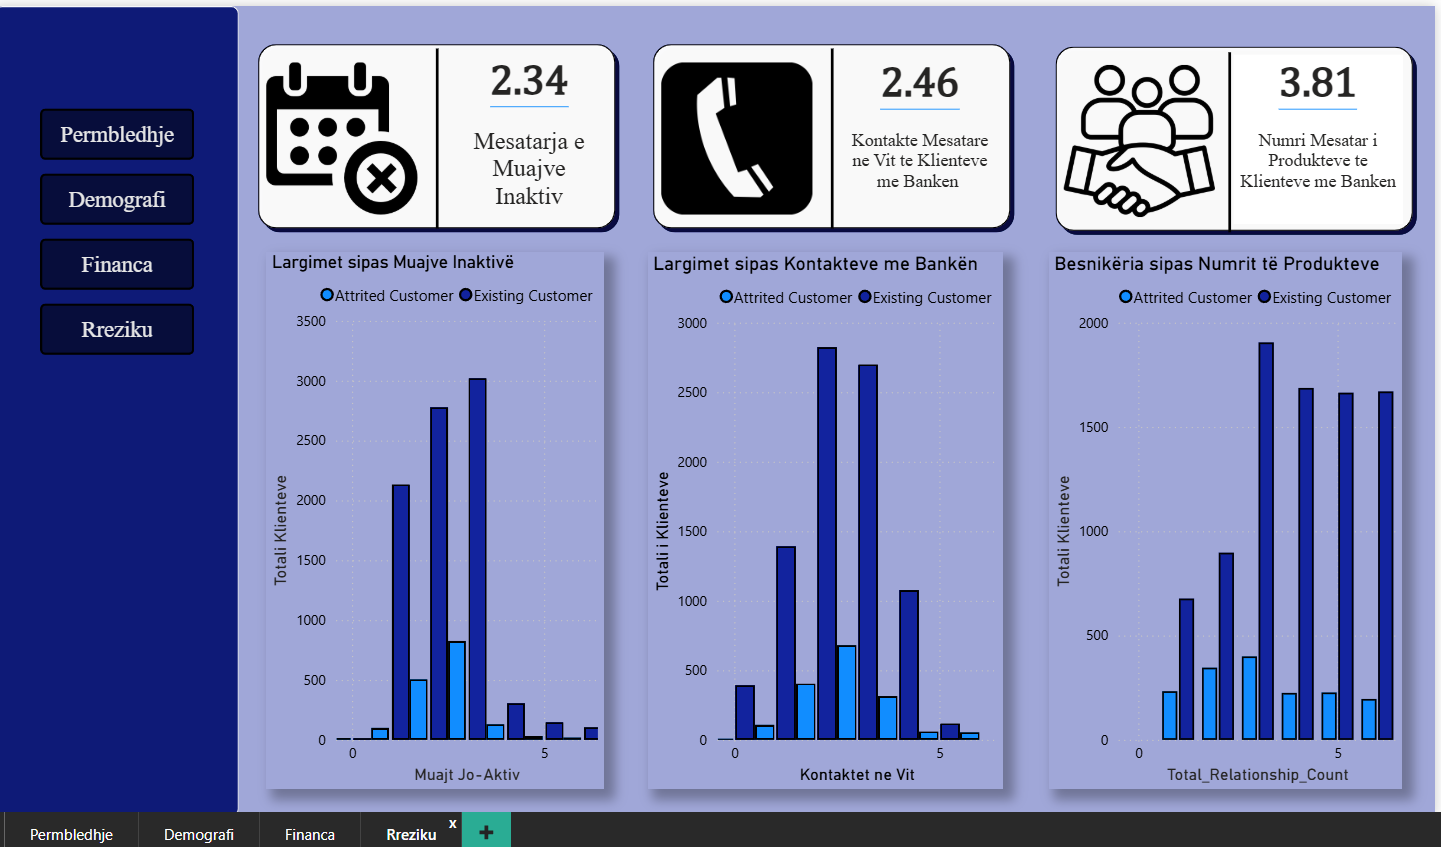

The page's visual inventory and layout, read from the dashboard file:
{"tool":"powerbi","page":{"name":"Rreziku","canvas":[1280,720],"ordinal":3},"visuals":[{"type":"group","id":"g1","title":"Group 1","box":[0,0,215.7,720],"z":0},{"type":"shape","box":[0,0,216.7,720.2],"z":0,"group":"g1"},{"type":"group","id":"g2","title":"Group 3","box":[228.8,28.8,327.5,173.8],"z":0,"group":"g6"},{"type":"group","id":"g3","title":"Group 2","box":[228.8,28.8,327.5,173.8],"z":0,"group":"g2"},{"type":"shape","box":[228.8,28.8,327.5,173.8],"z":0,"group":"g3"},{"type":"group","id":"g4","title":"Group 2","box":[580.4,28.8,327.5,173.8],"z":0,"group":"g7"},{"type":"shape","box":[580.4,28.8,327.5,173.8],"z":0,"group":"g4"},{"type":"group","id":"g5","title":"Group 2","box":[937.6,31.3,327.5,173.8],"z":0,"group":"g8"},{"type":"shape","box":[937.6,31.3,327.5,173.8],"z":0,"group":"g5"},{"type":"group","id":"g6","title":"Group 4","box":[228.8,28.8,1036.2,176.2],"z":1000},{"type":"group","id":"g7","title":"Group 3","box":[580.4,28.8,327.5,173.8],"z":1000,"group":"g6"},{"type":"shape","box":[288.3,37.6,208.4,160],"z":1000,"group":"g2"},{"type":"shape","box":[639.9,37.6,208.4,160],"z":1000,"group":"g7"},{"type":"shape","box":[993.6,41,208.4,160],"z":1000,"group":"g8"},{"type":"image","box":[240.8,47.9,134.7,140],"z":1000,"group":"g3"},{"type":"image","box":[592.4,47.9,134.7,140],"z":1000,"group":"g4"},{"type":"image","box":[949.6,50.4,134.7,140],"z":1000,"group":"g5"},{"type":"actionButton","box":[40.3,91.4,137.1,45.7],"z":1000,"group":"g1"},{"type":"group","id":"g8","title":"Group 3","box":[937.6,31.3,327.5,173.8],"z":2000,"group":"g6"},{"type":"textbox","box":[406.2,41.2,136.2,146.2],"z":2000},{"type":"actionButton","box":[40.3,148.6,137.1,45.7],"z":2000,"group":"g1"},{"type":"textbox","box":[747.5,43.8,148.8,157.5],"z":3000},{"type":"actionButton","box":[40.3,207.1,137.1,45.7],"z":3000,"group":"g1"},{"type":"textbox","box":[1101.2,43.8,150,150],"z":4000},{"type":"actionButton","box":[40.3,264.3,137.1,45.7],"z":4000,"group":"g1"},{"type":"clusteredColumnChart","title":"Largimet sipas Muajve Inaktivë","fields":{"Category":["BankChurners.Months_Inactive_12_mon"],"Y":["BankChurners.Totali Klienteve"],"Series":["BankChurners.Attrition_Flag"]},"box":[241.4,218.6,300,477.1],"z":4001},{"type":"clusteredColumnChart","title":"Largimet sipas Kontakteve me Bankën","fields":{"Category":["BankChurners.Contacts_Count_12_mon"],"Y":["BankChurners.Totali Klienteve"],"Series":["BankChurners.Attrition_Flag"]},"box":[580,218.6,315.7,477.1],"z":4002},{"type":"clusteredColumnChart","title":"Besnikëria sipas Numrit të Produkteve","fields":{"Series":["BankChurners.Attrition_Flag"],"Y":["BankChurners.Totali Klienteve"],"Category":["BankChurners.Total_Relationship_Count"]},"box":[937.1,218.6,314.3,477.1],"z":4003}]}

Visuals, with their boxes on the page's 1280x720 design canvas (x1, y1, x2, y2). These are canvas units, not pixel positions in the 1441x847 screenshot, which may show the page scaled, cropped or inside an application window:
"Group 1" group: 0/0/216/720
shape: 0/0/217/720
"Group 3" group: 229/29/556/203
"Group 2" group: 229/29/556/203
shape: 229/29/556/203
"Group 2" group: 580/29/908/203
shape: 580/29/908/203
"Group 2" group: 938/31/1265/205
shape: 938/31/1265/205
"Group 4" group: 229/29/1265/205
"Group 3" group: 580/29/908/203
shape: 288/38/497/198
shape: 640/38/848/198
shape: 994/41/1202/201
image: 241/48/376/188
image: 592/48/727/188
image: 950/50/1084/190
actionButton: 40/91/177/137
"Group 3" group: 938/31/1265/205
textbox: 406/41/542/187
actionButton: 40/149/177/194
textbox: 748/44/896/201
actionButton: 40/207/177/253
textbox: 1101/44/1251/194
actionButton: 40/264/177/310
"Largimet sipas Muajve Inaktivë" clusteredColumnChart: 241/219/541/696
"Largimet sipas Kontakteve me Bankën" clusteredColumnChart: 580/219/896/696
"Besnikëria sipas Numrit të Produkteve" clusteredColumnChart: 937/219/1251/696
